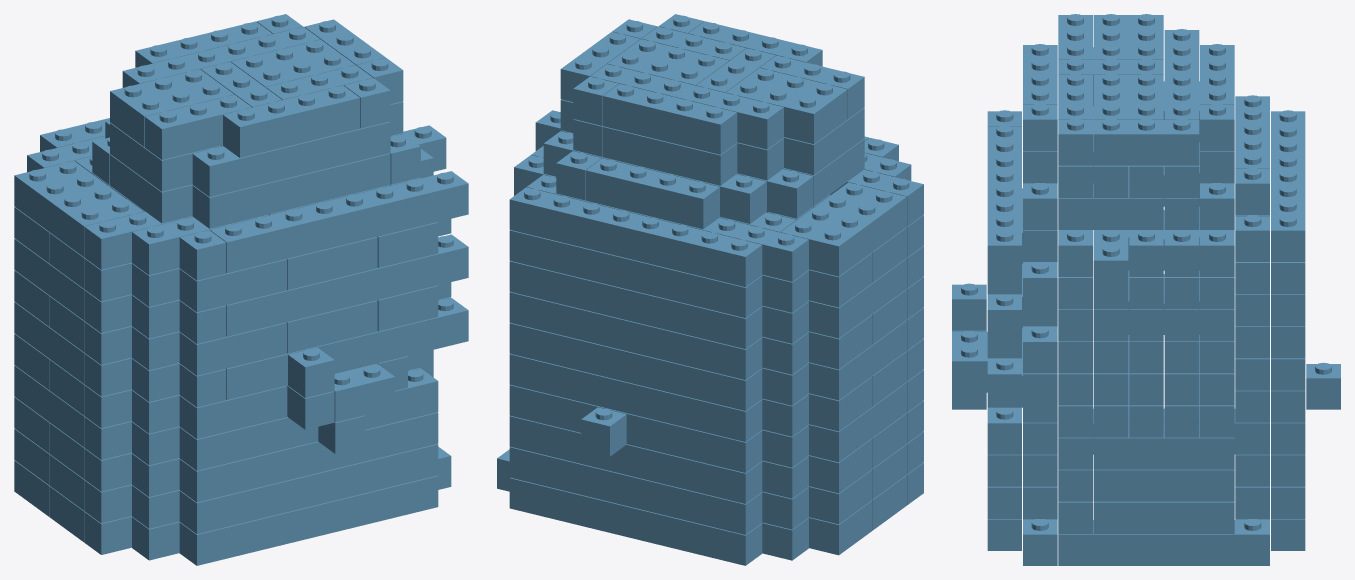
The model's file is collab_camera-L2-C1_raw.glb.
3 renders of one model, left to right at view 1: azimuth 30°, elevation 25°; view 2: azimuth 150°, elevation 25°; view 3: azimuth 270°, elevation 25°, orthographic. The views are drawn at different scales.
Size of the model in its own units: 11.98 by 13.13 by 10.98.
